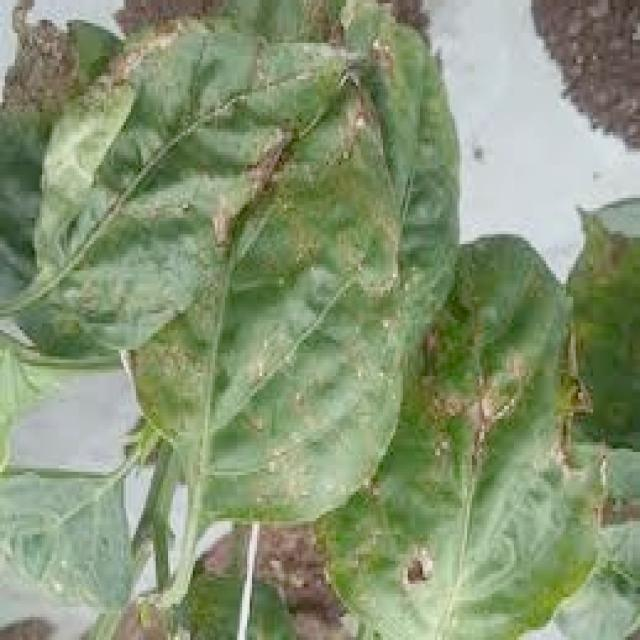Bercak Daun Serkospora: (130, 88, 404, 536), (316, 229, 613, 640), (30, 27, 362, 316)
